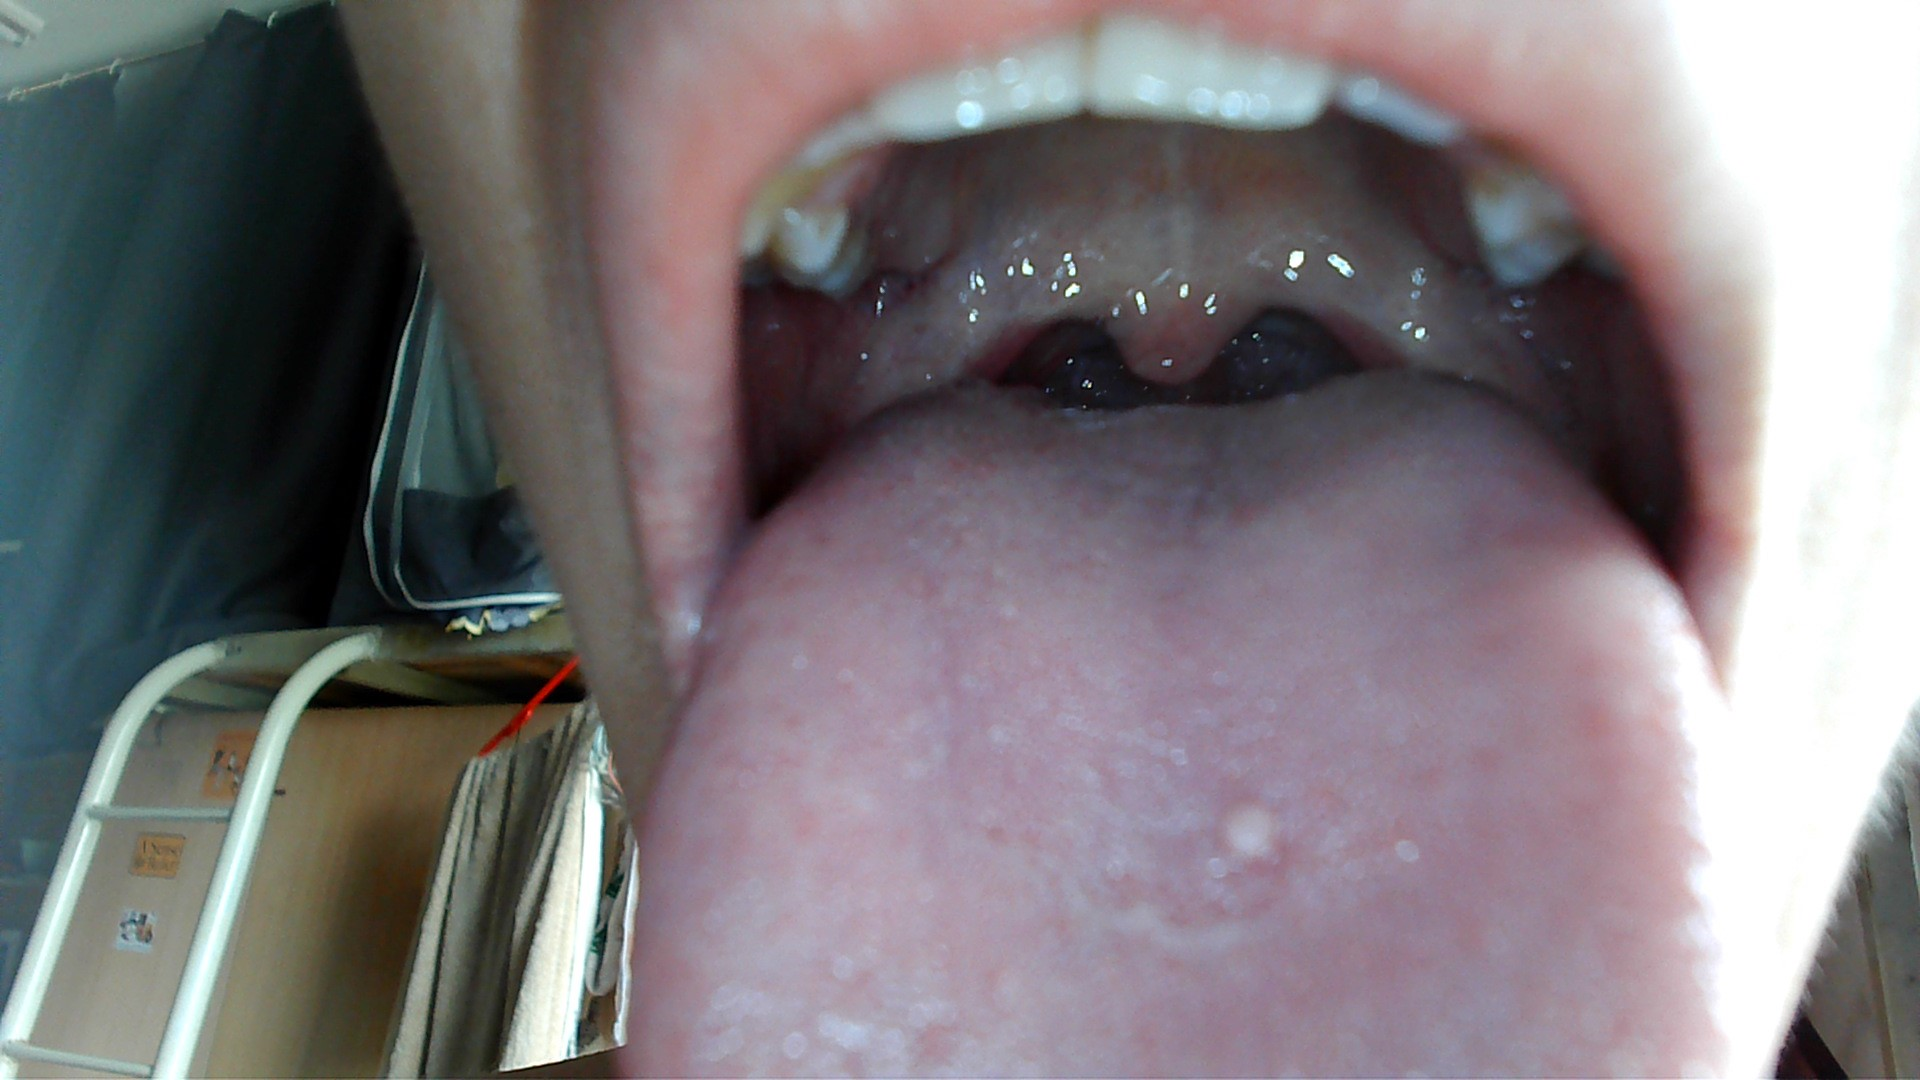throat: (1313, 232, 1470, 368), (866, 287, 1038, 388)
